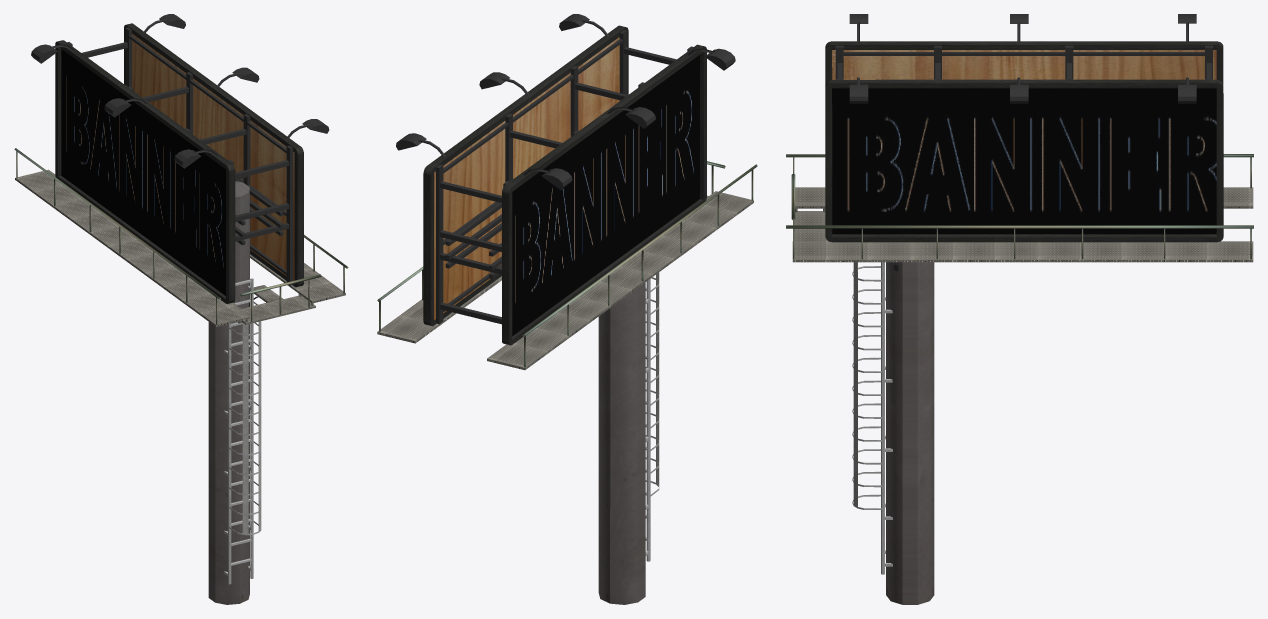
3 renders of one model, left to right at view 1: azimuth 30°, elevation 25°; view 2: azimuth 150°, elevation 25°; view 3: azimuth 270°, elevation 25°, orthographic. The views are drawn at different scales.
Visible parts, largest first — view 1: lamp; view 2: lamp; view 3: lamp.
Boxes of the visible parts, x1,y1,x2,y2 form: lamp: (14,14,348,604); lamp: (377,14,757,604); lamp: (786,14,1253,604).
Size of the model in its own units: 23.14 by 71.45 by 55.69.
10 materials, 10 textured.
